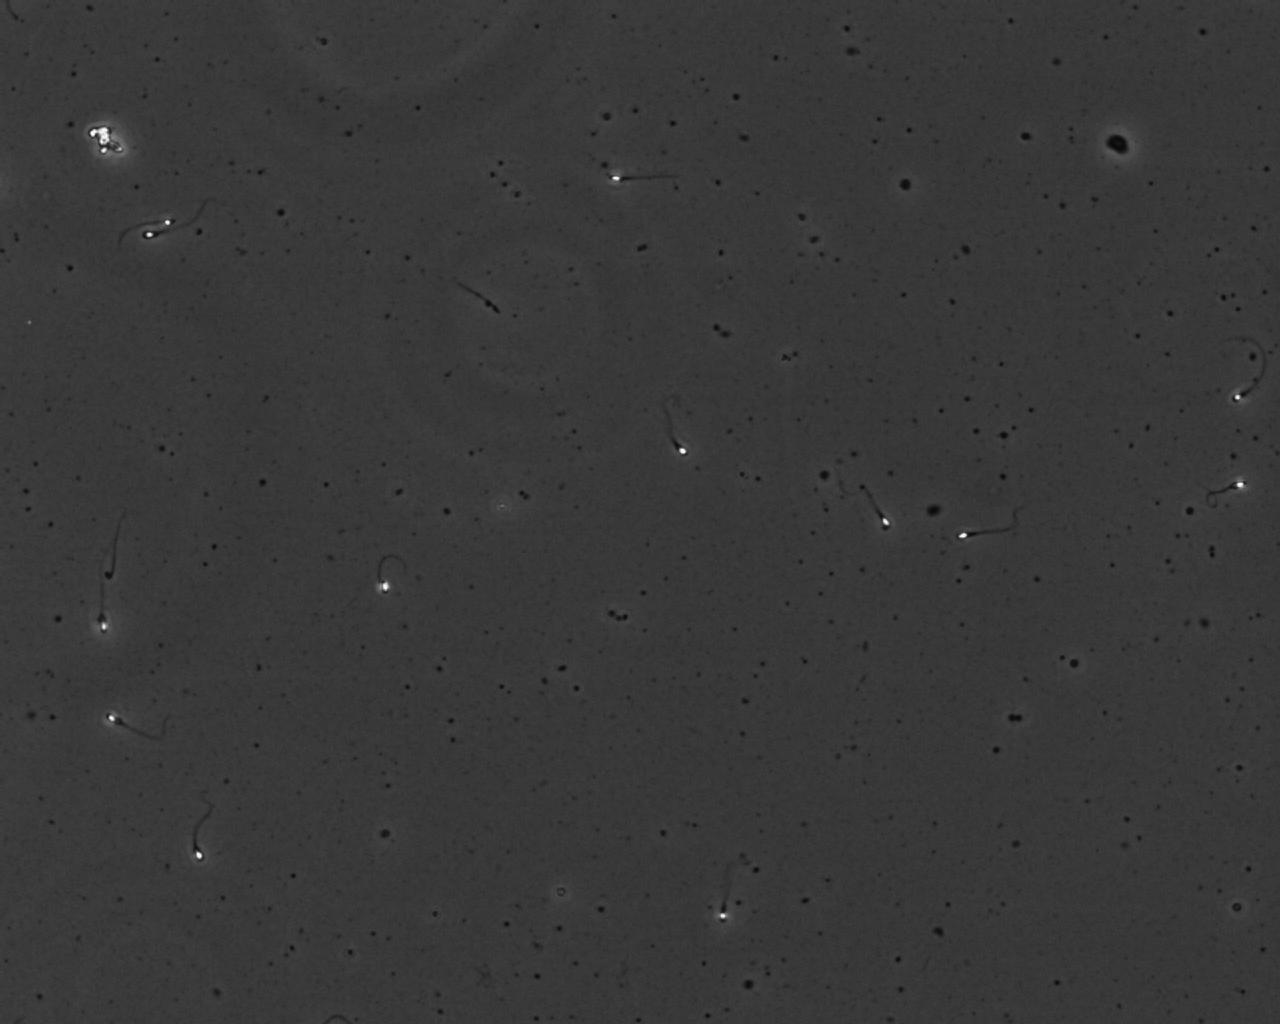cell: (1102, 131, 1132, 159)
